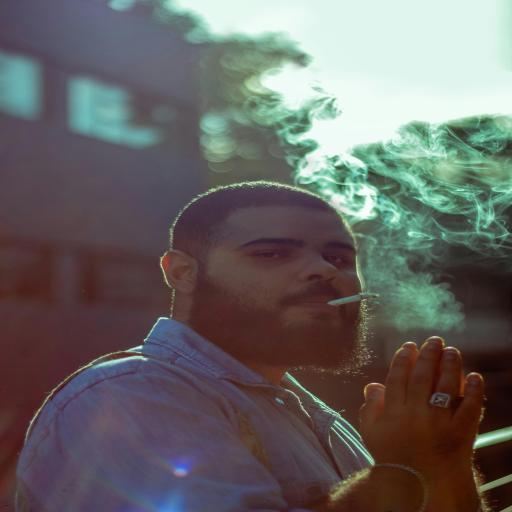terdeteksi merokok: (258, 218, 400, 361)
